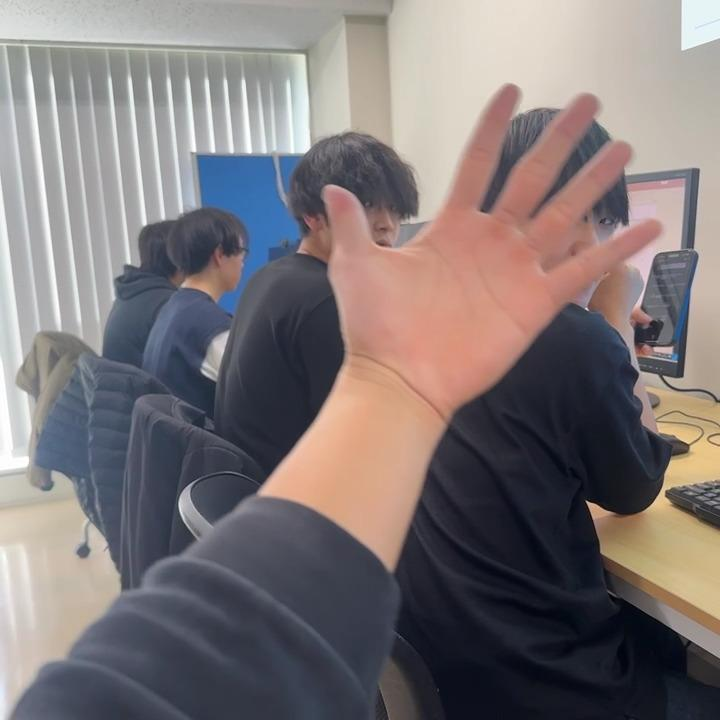without_gloves: (334, 42, 659, 396)
